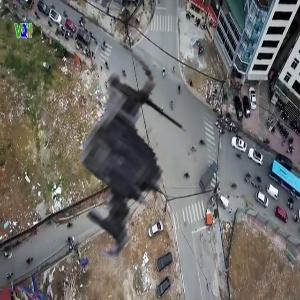drone: (19, 58, 226, 265)
